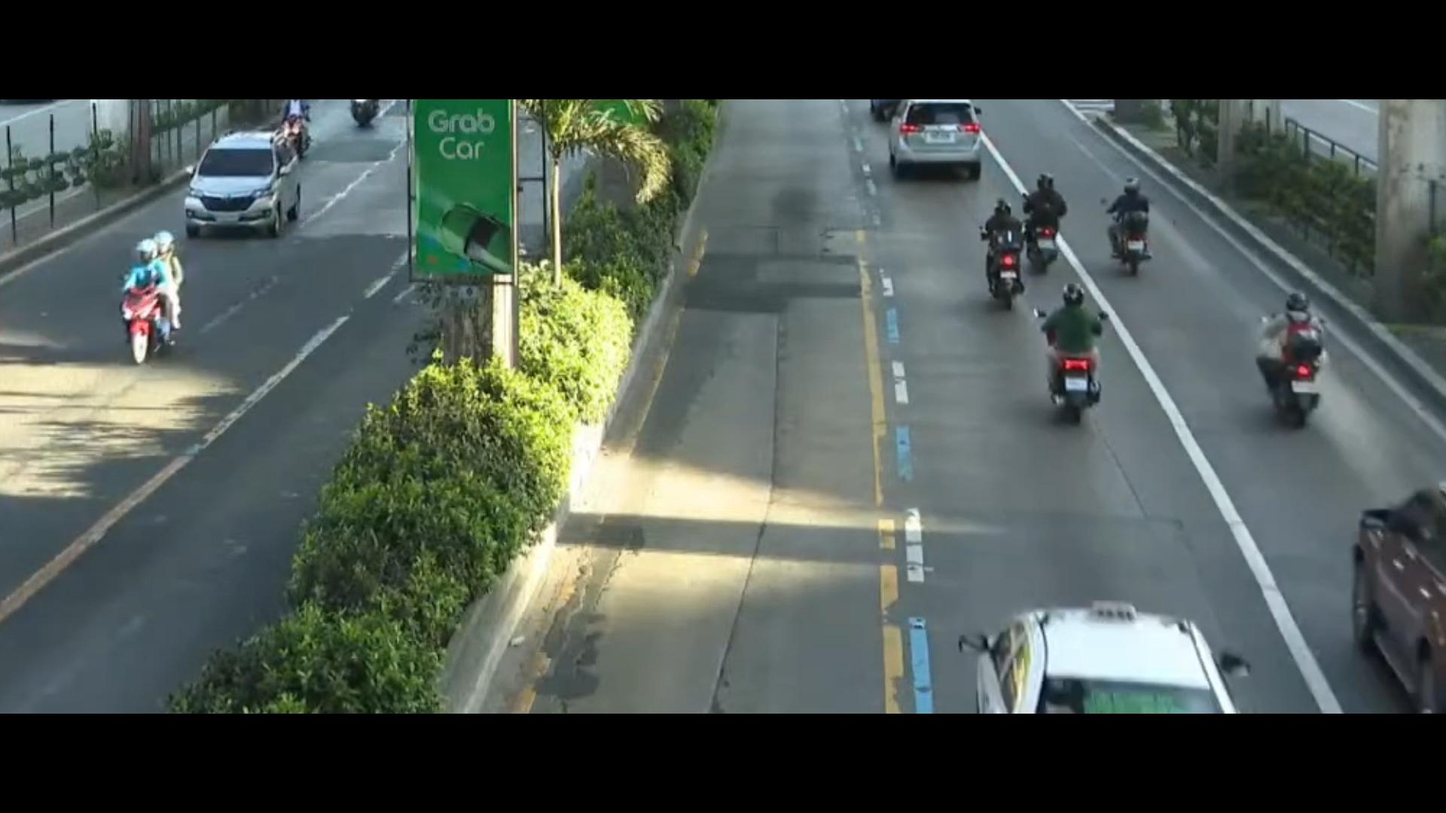Motorcycle: (78, 232, 192, 393), (1247, 285, 1349, 420), (1037, 271, 1128, 414), (969, 190, 1043, 315), (997, 170, 1079, 261), (1096, 172, 1162, 273)
SUV: (1345, 463, 1446, 718), (168, 126, 322, 255), (881, 98, 995, 181)
Sedan: (949, 580, 1247, 709)
